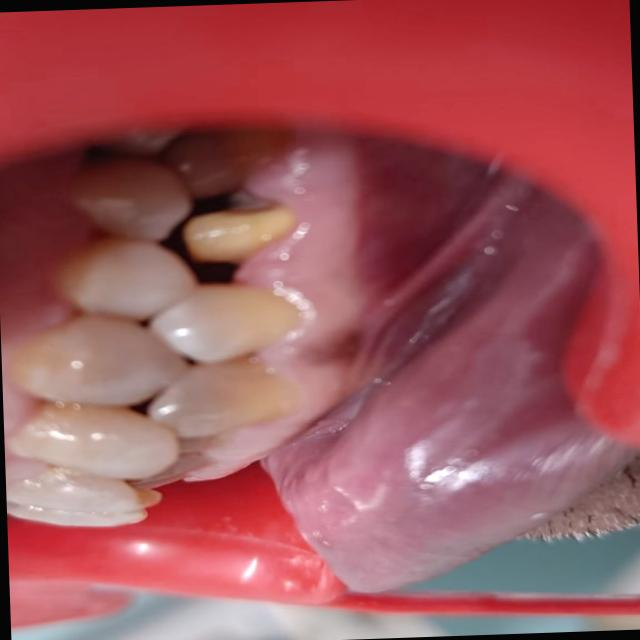No Cancer: (162, 148, 466, 560)
